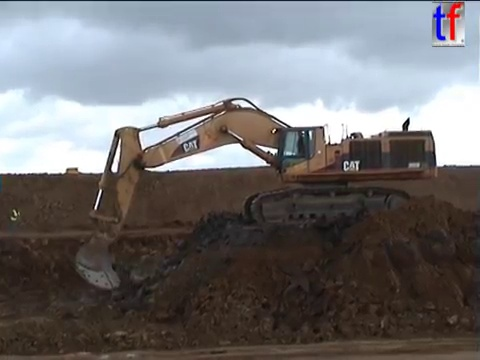excavator: (71, 94, 441, 294)
truck: (63, 166, 79, 180)
worker: (6, 204, 21, 234)
